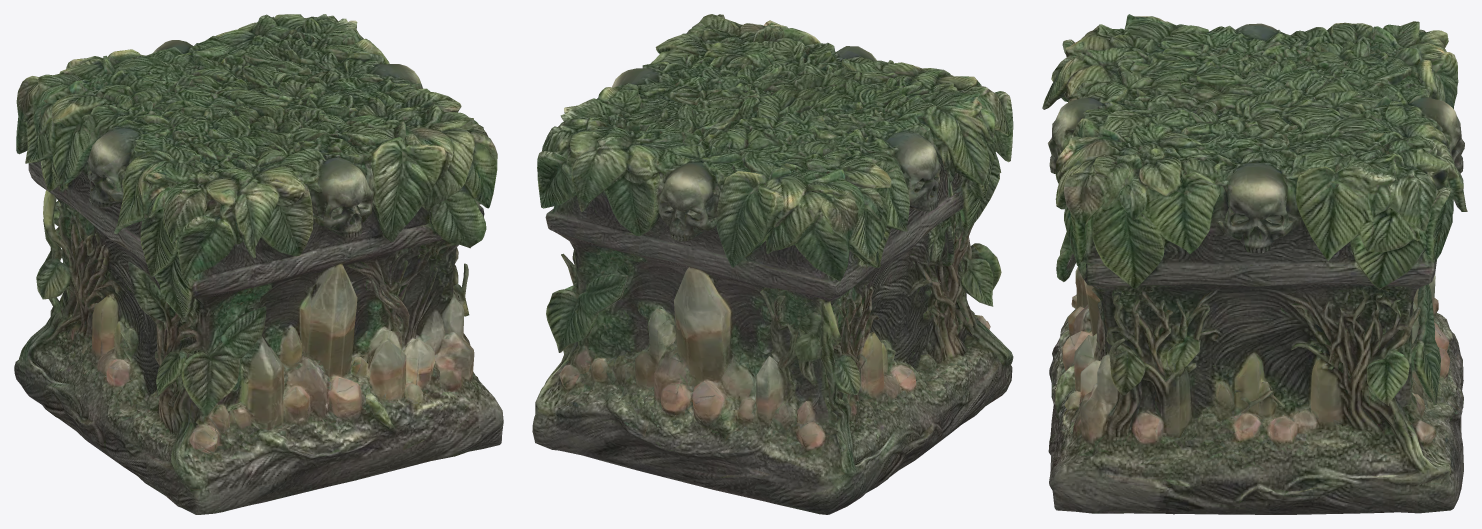
The model's file is deck-box.glb.
The picture shows the model from 3 angles, left to right: view 1: azimuth 30°, elevation 25°; view 2: azimuth 150°, elevation 25°; view 3: azimuth 270°, elevation 25°; orthographic projection. The views are drawn at different scales.
Visible parts, largest first — view 1: Mesh1.0; view 2: Mesh1.0; view 3: Mesh1.0.
Part boxes in pixels (bbox=[...]): Mesh1.0: bbox=[14, 14, 503, 514]; Mesh1.0: bbox=[532, 14, 1013, 514]; Mesh1.0: bbox=[1042, 14, 1467, 514].
Size of the model in its own units: 1.91 by 1.69 by 1.88.
Materials: 1 (1 with a texture image).
